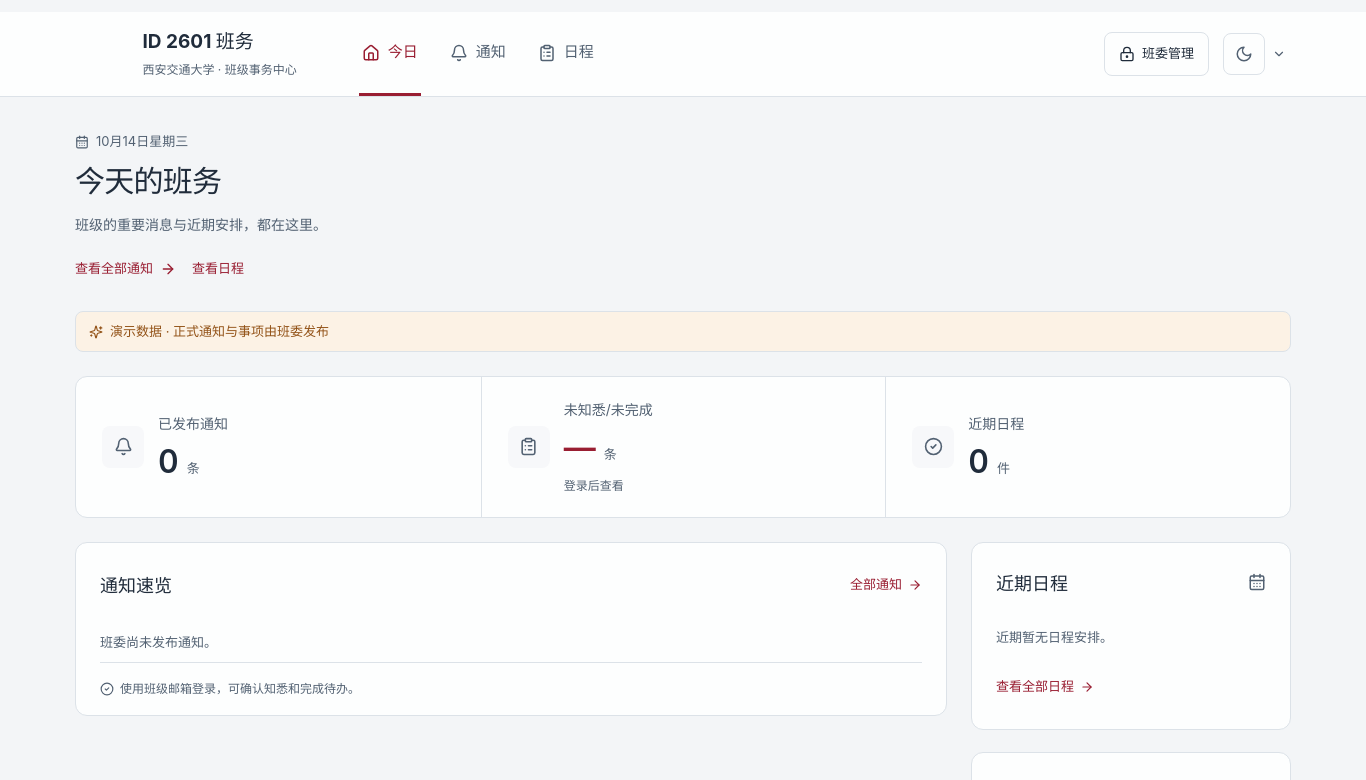
Scenario: loads newly published notices when a student opens the notification tab
Expected: the heading "今天的班务" is shown, [75,163,221,199]
Click the button "通知": (478, 54) [447,12,509,96]
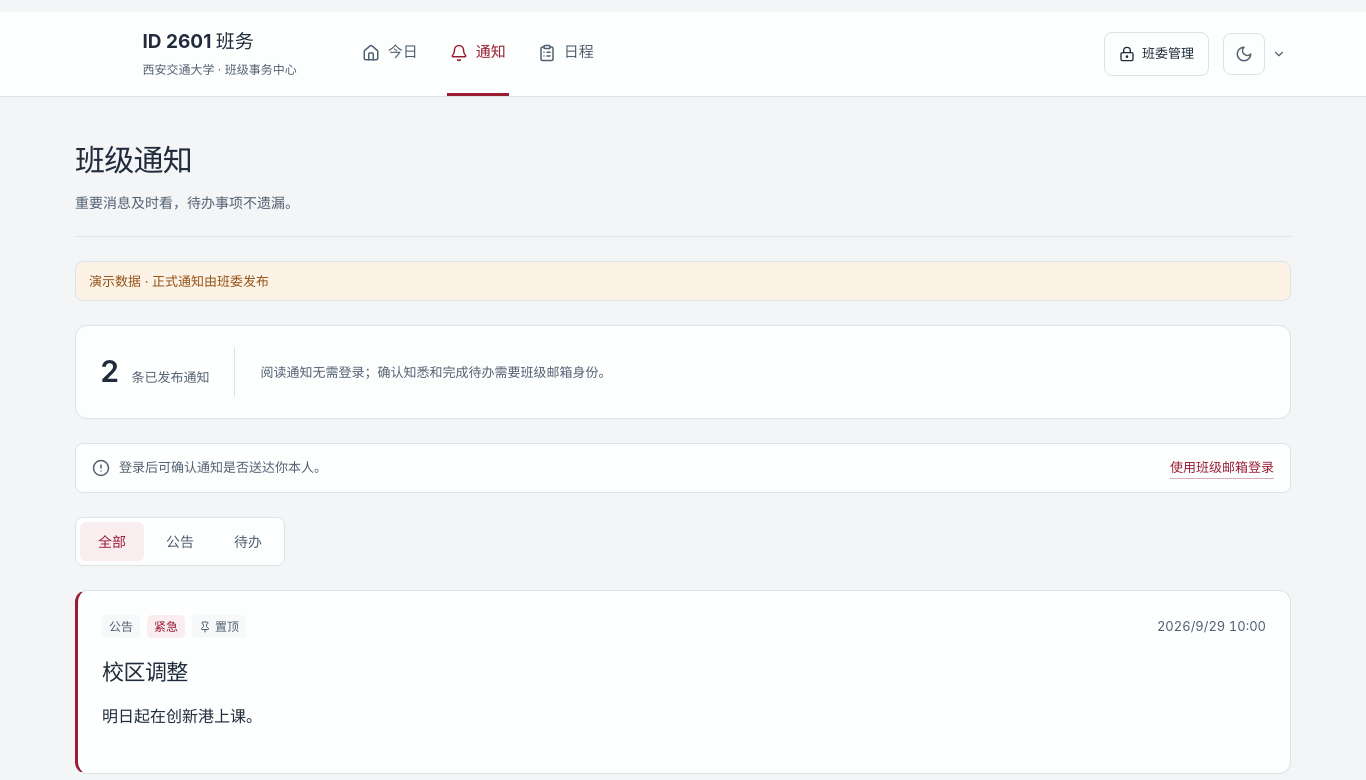
Now the heading "校区调整" is shown, box [102,659,188,685]
